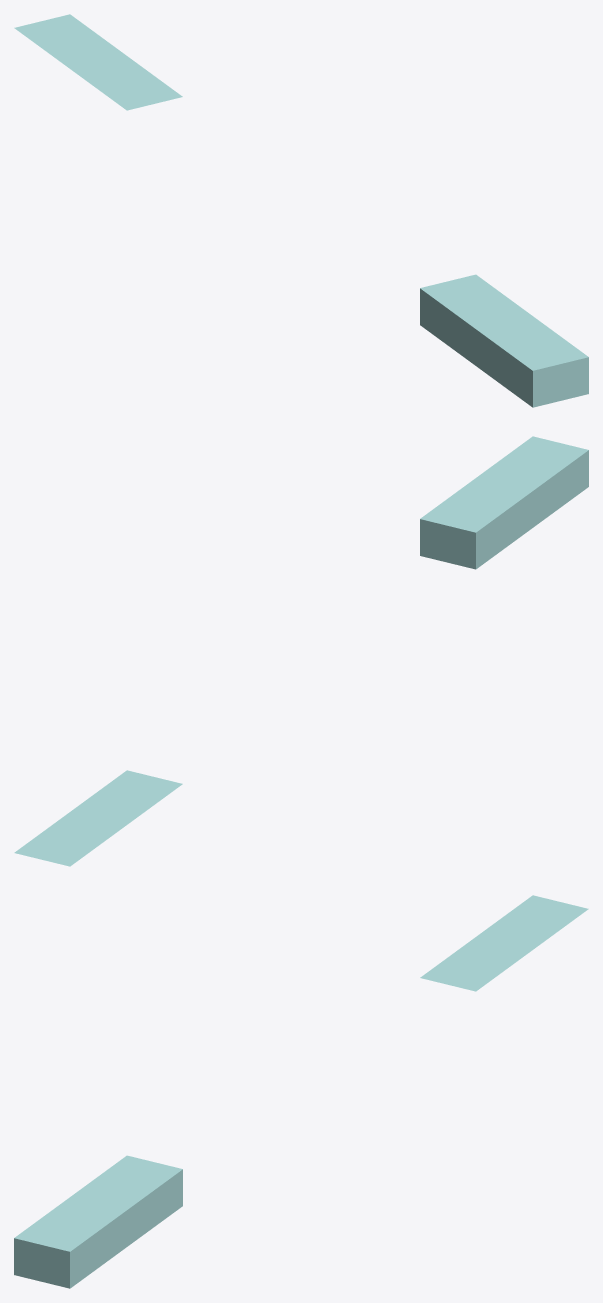
File: Ring_01_Outer_Channel_01.fbx
3 views of the same model, one above another, from view 1: azimuth 30°, elevation 25°; view 2: azimuth 150°, elevation 25°; view 3: azimuth 330°, elevation 25° (orthographic).
Parts seen in each view (by area): view 1: Ring_01_Outer_Channel_01, Ring_01_Outer_Floor_01; view 2: Ring_01_Outer_Channel_01, Ring_01_Outer_Floor_01; view 3: Ring_01_Outer_Channel_01, Ring_01_Outer_Floor_01.
Boxes of the visible parts, left/top/right/bottom form: Ring_01_Outer_Channel_01: left=420, top=274, right=588, bottom=407; Ring_01_Outer_Floor_01: left=14, top=14, right=182, bottom=110; Ring_01_Outer_Channel_01: left=420, top=436, right=588, bottom=569; Ring_01_Outer_Floor_01: left=14, top=770, right=182, bottom=866; Ring_01_Outer_Channel_01: left=14, top=1155, right=182, bottom=1288; Ring_01_Outer_Floor_01: left=420, top=895, right=588, bottom=991.
Bounding box in the file's own units: 12.68 × 7.96 × 203.
